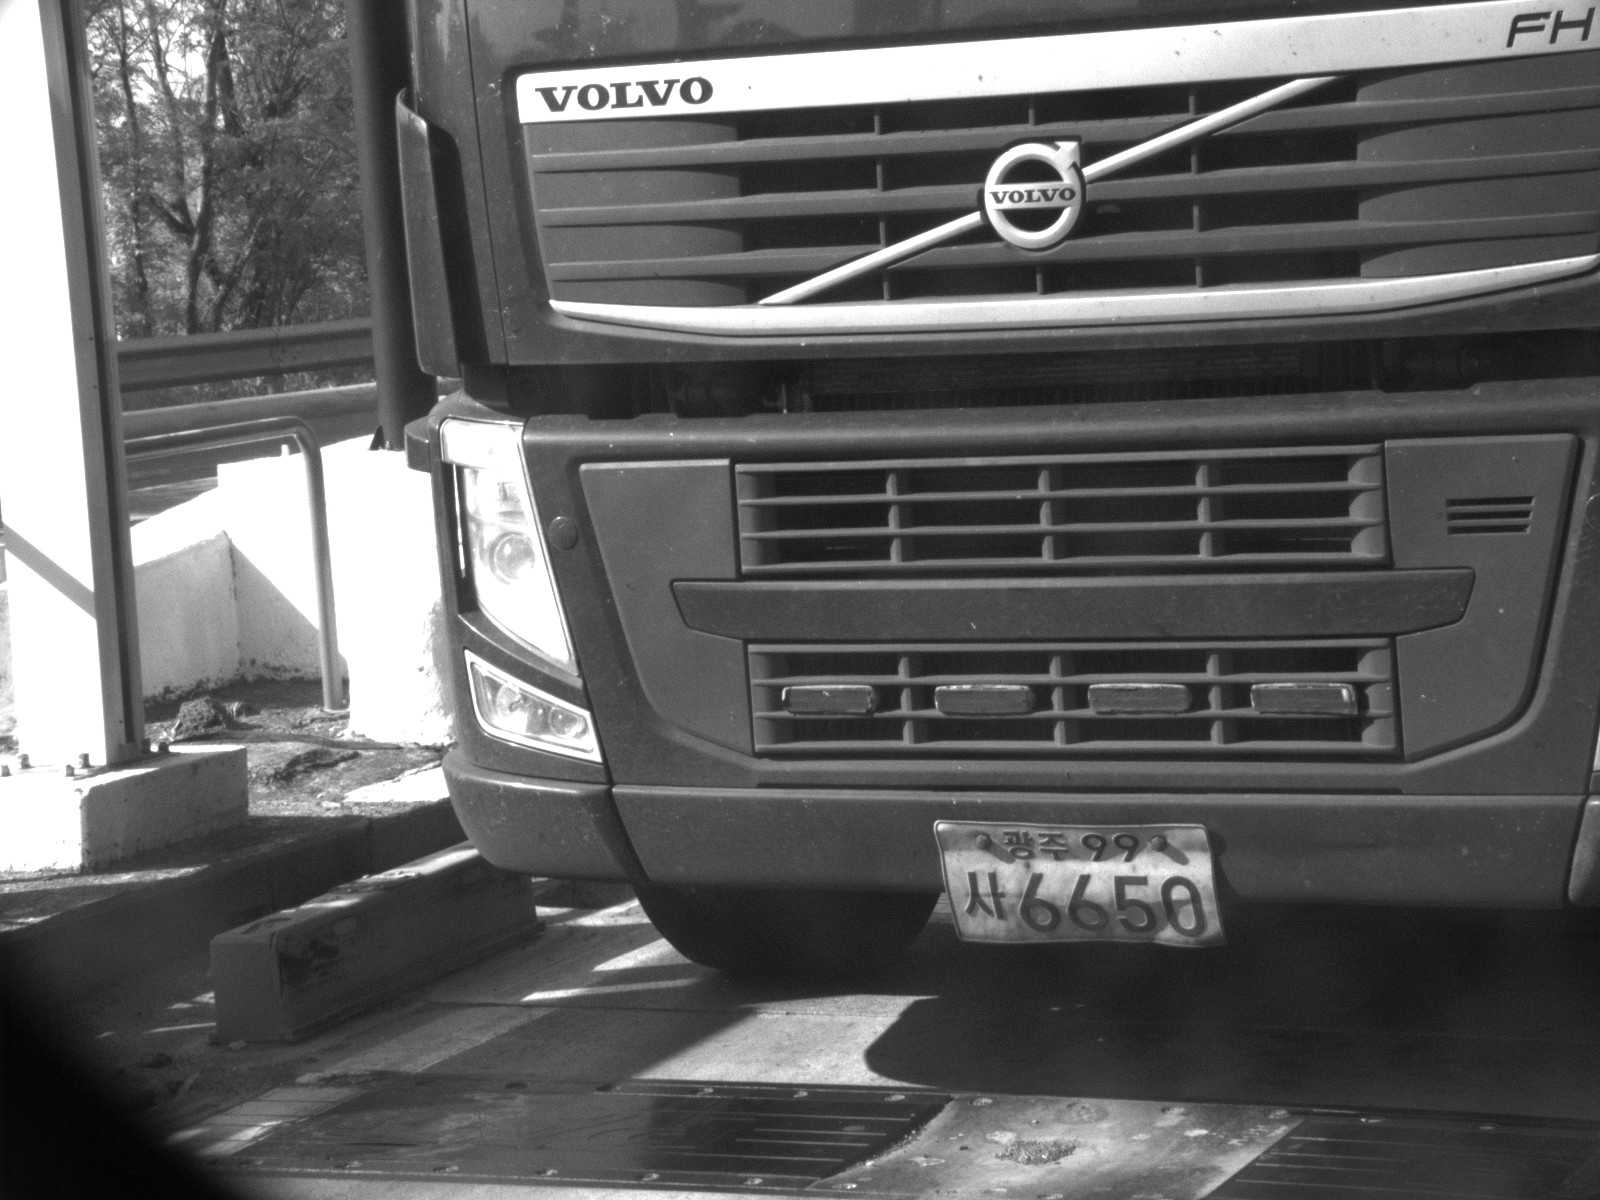car: (334, 1, 1599, 982)
plate: (930, 820, 1229, 953)
